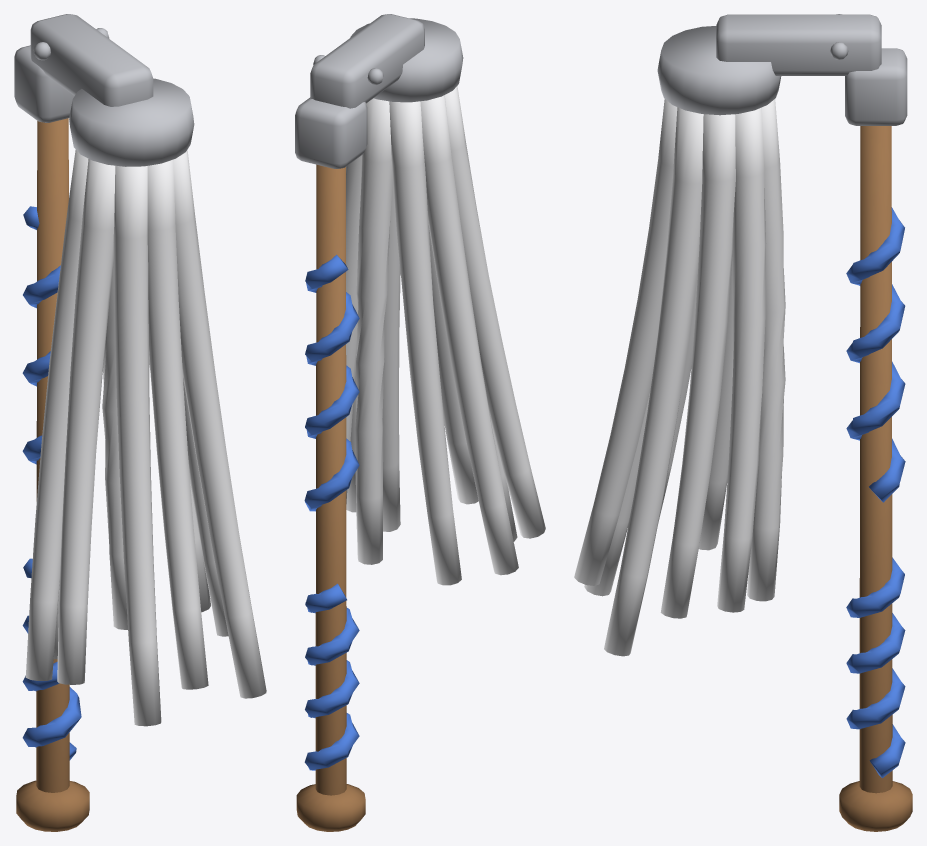
Rendered from fire-mop.fbx.
The picture shows the model from 3 angles, left to right: view 1: azimuth 30°, elevation 25°; view 2: azimuth 150°, elevation 25°; view 3: azimuth 270°, elevation 25°; orthographic projection. The views are drawn at different scales.
Parts seen in each view (by area): view 1: fire-mop; view 2: fire-mop; view 3: fire-mop.
Part boxes in pixels (box(x1,y1,x2,y2)): fire-mop: box(14, 14, 266, 831); fire-mop: box(295, 14, 545, 831); fire-mop: box(574, 14, 912, 831).
Bounding box in the file's own units: 1.24 × 4.79 × 1.84.
Materials: 1 (1 with a texture image).
